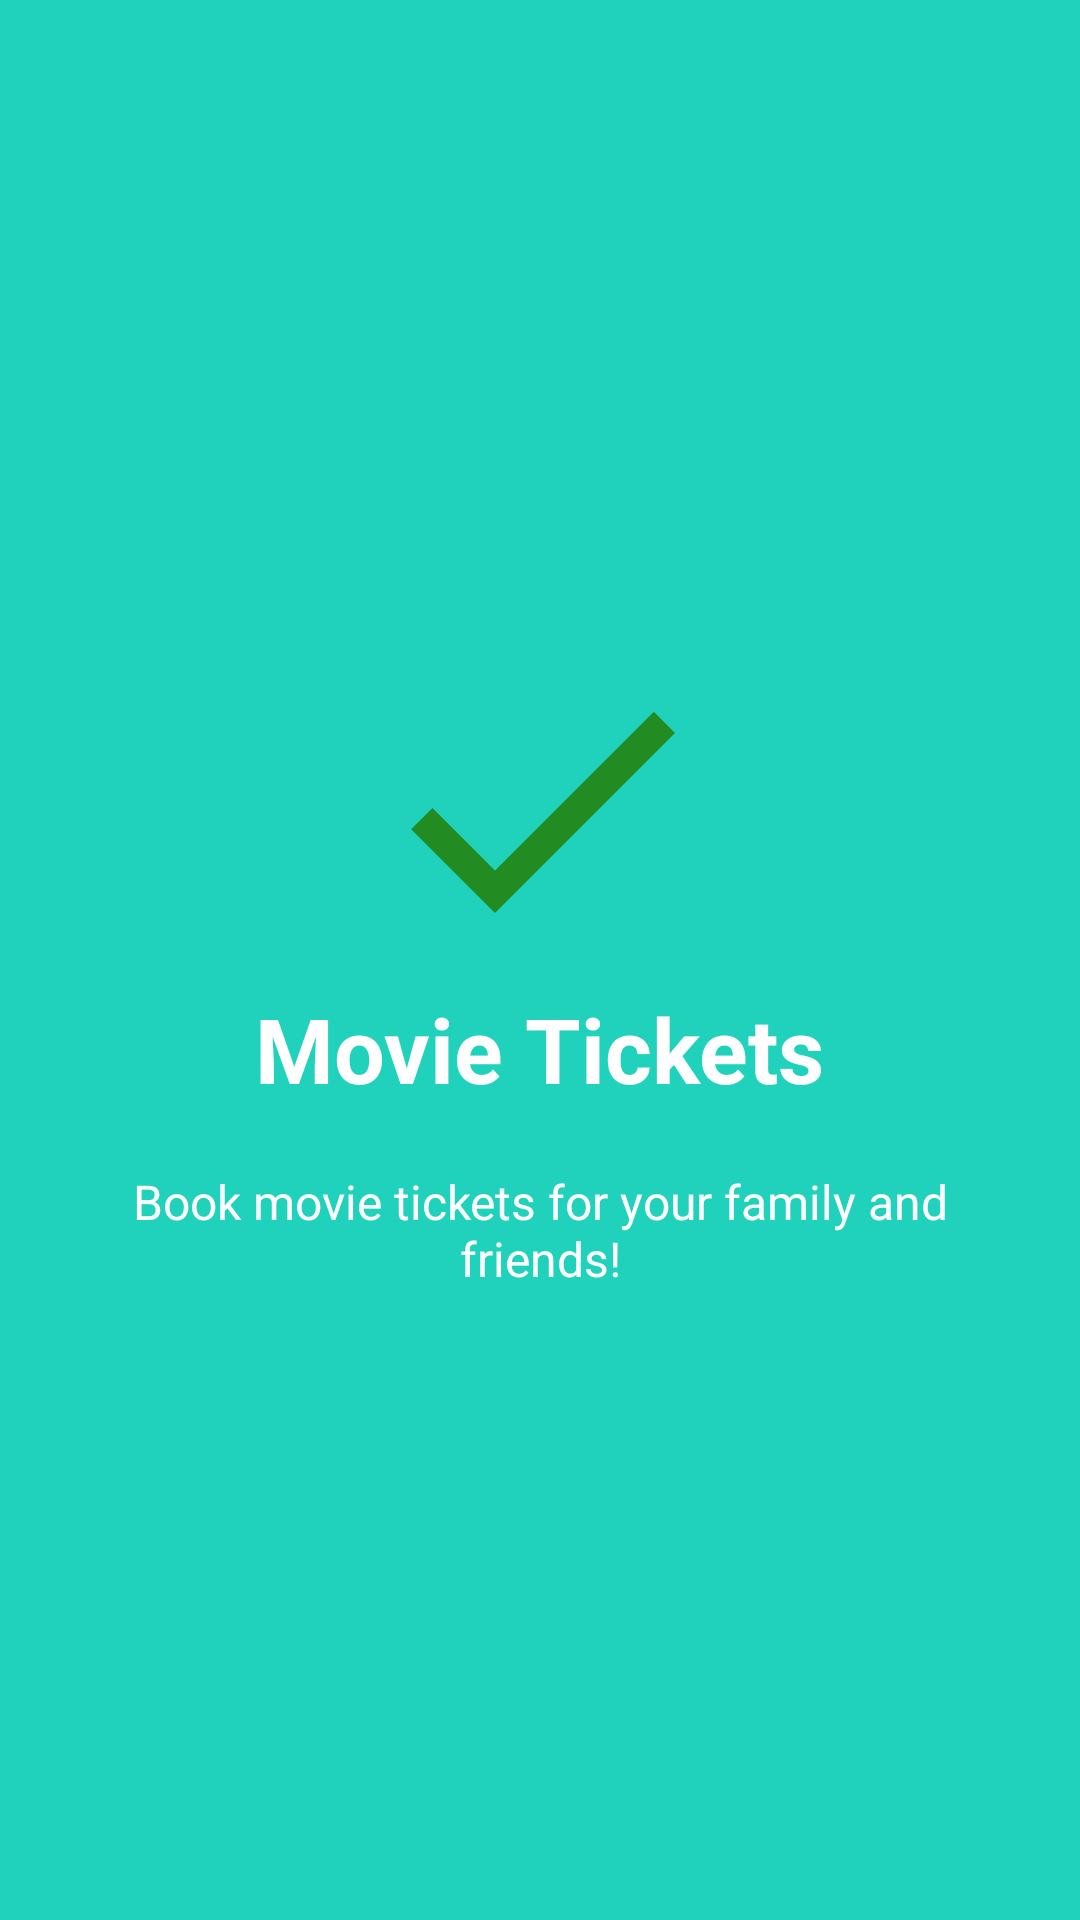

Screen size 1080w x 1920h. Icon name, then its center in pixels as [x,y]:
check: [543,812]
